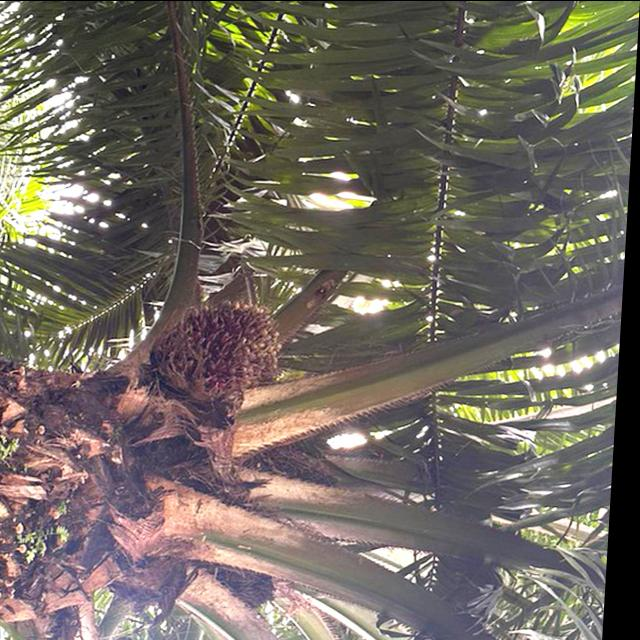ripe: (145, 290, 297, 406)
